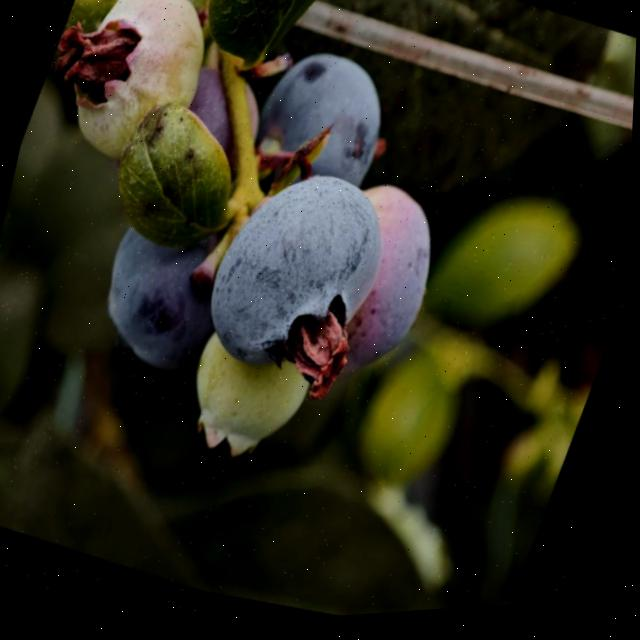RipeBlueBerry: (187, 145, 414, 410)
UnripeBlueBerry: (52, 0, 232, 189)
